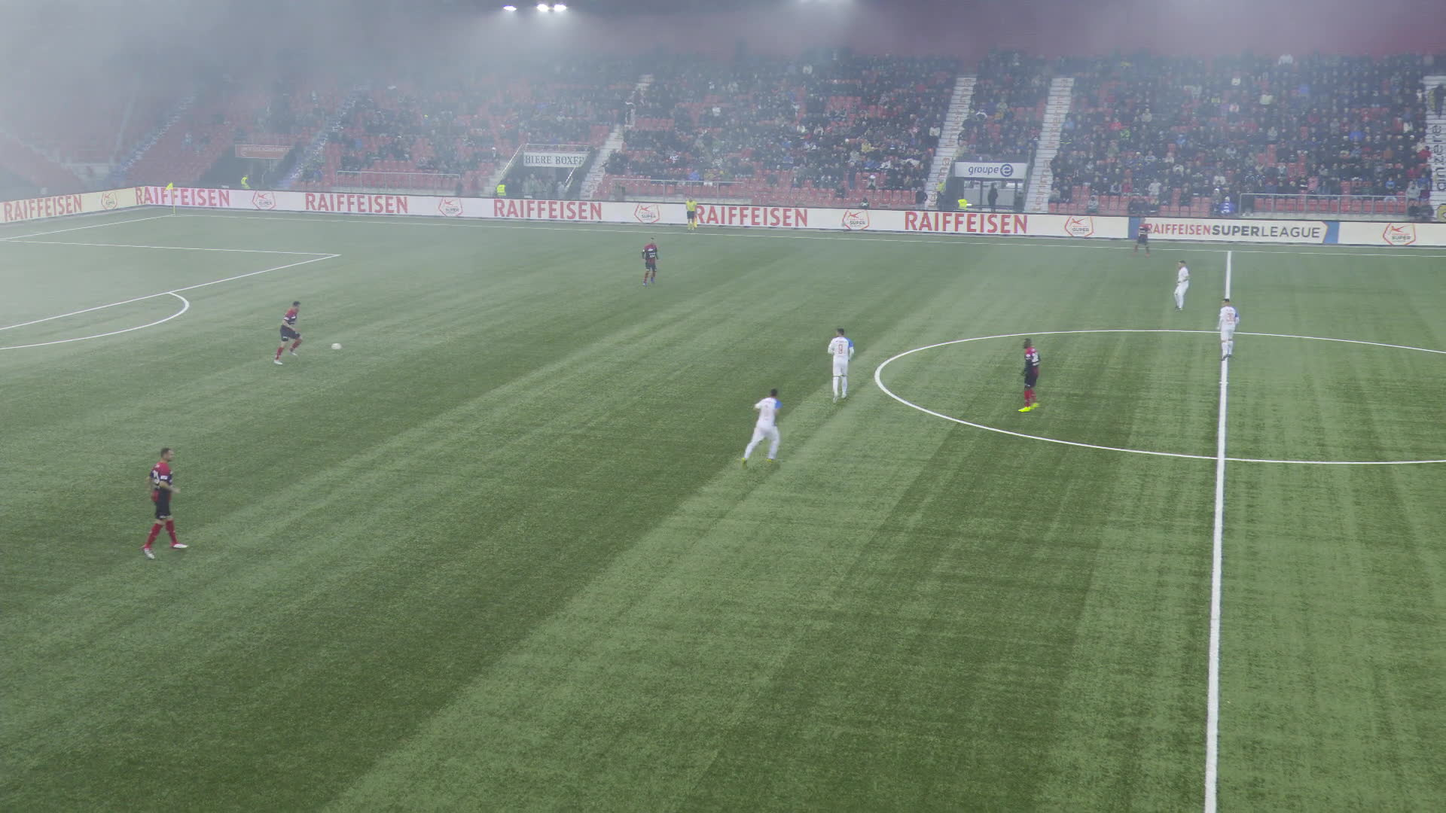ball: (331, 343, 340, 349)
player: (145, 449, 185, 559), (735, 388, 779, 466), (1011, 340, 1042, 414), (825, 330, 852, 400), (272, 300, 300, 364), (1215, 297, 1237, 359), (1170, 259, 1188, 311), (639, 238, 657, 286), (1131, 219, 1149, 257)
referee: (685, 196, 696, 230)
